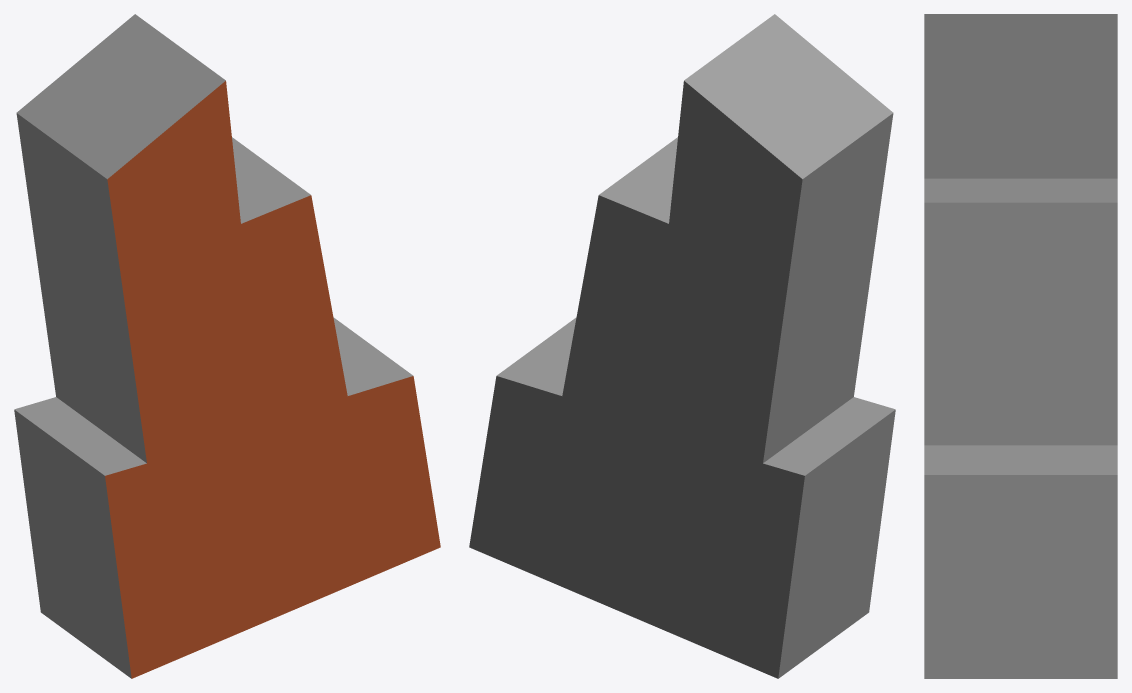
Rendered from construction_3406_assumed_A_Casa_h6m.obj.
3 renders of one model, left to right at view 1: azimuth 30°, elevation 25°; view 2: azimuth 150°, elevation 25°; view 3: azimuth 270°, elevation 25°, orthographic. The views are drawn at different scales.
Visible parts, largest first — view 1: construction_3406_assumed_A_Casa; view 2: construction_3406_assumed_A_Casa; view 3: construction_3406_assumed_A_Casa.
Boxes of the visible parts, x1=… form: construction_3406_assumed_A_Casa: x1=14, y1=14, x2=440, y2=678; construction_3406_assumed_A_Casa: x1=469, y1=14, x2=895, y2=678; construction_3406_assumed_A_Casa: x1=924, y1=14, x2=1117, y2=678.
Bounding box in the file's own units: 12.8 × 20.96 × 6.
